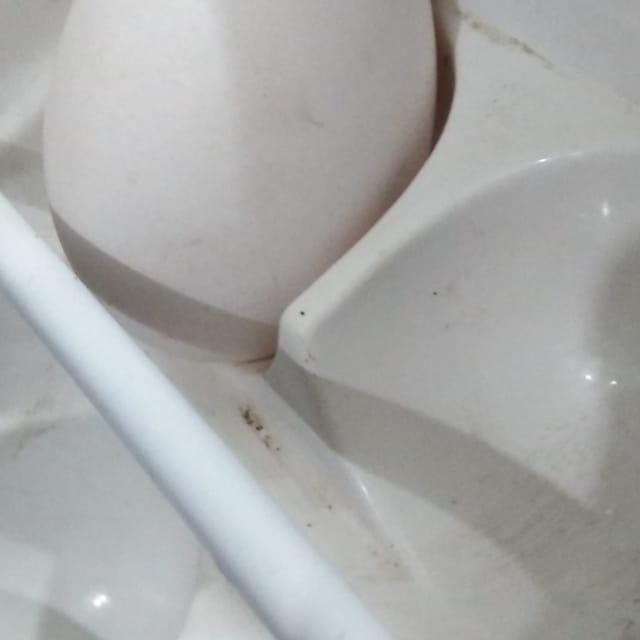egg: (26, 0, 490, 358)
